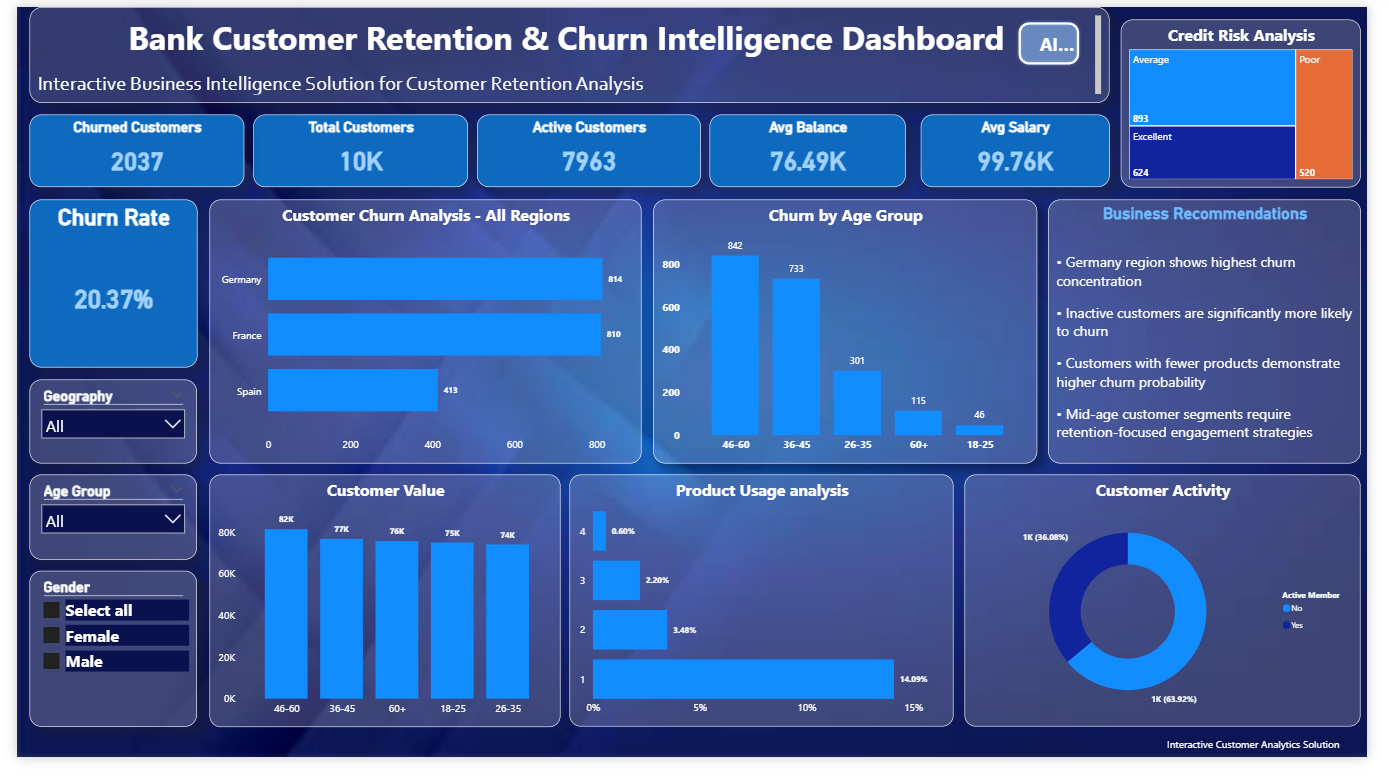

The page's visual inventory and layout, read from the dashboard file:
{"tool":"powerbi","page":{"name":"Executive Dashboard","canvas":[1800,1000],"ordinal":0},"visuals":[{"type":"card","title":"Total Customers","fields":{"Values":["Customer_Info.Total Customers"]},"box":[315,143.3,286.7,96.7],"z":0},{"type":"card","title":"Churned Customers","fields":{"Values":["Customer_Info.Churned Customers"]},"box":[16.7,143.3,286.7,96.7],"z":1000},{"type":"card","title":"Active Customers","fields":{"Values":["Customer_Info.Active Customers"]},"box":[613.3,143.3,298.3,96.7],"z":2000},{"type":"card","title":"Churn Rate","fields":{"Values":["Customer_Info.Churn Rate"]},"box":[16,256,224,224],"z":3000},{"type":"card","title":"Avg Salary","fields":{"Values":["Account_Info.Average Salary"]},"box":[1205,143.3,251.7,96.7],"z":4000},{"type":"card","title":"Avg Balance","fields":{"Values":["Customer_Info.Average Balance"]},"box":[923.3,143.3,261.7,96.7],"z":5000},{"type":"slicer","fields":{"Values":["Customer_Info.Geography"]},"box":[16.7,496.7,223.3,111.7],"z":6000},{"type":"slicer","fields":{"Values":["Customer_Info.Age Group"]},"box":[16.7,623.3,223.3,113.3],"z":7000},{"type":"textbox","box":[16,0,1440,128],"z":8000},{"type":"clusteredColumnChart","title":"Churn by Age Group","fields":{"Category":["Customer_Info.Age Group"],"Y":["Customer_Info.Churned Customers"]},"box":[848,256,512,352],"z":9000},{"type":"donutChart","title":"Customer Activity","fields":{"Category":["Account_Info.IsActiveMember"],"Y":["Customer_Info.Churned Customers"]},"box":[1264,624,528,336],"z":10000},{"type":"treemap","title":"Credit Risk Analysis","fields":{"Group":["Customer_Info.Credit Category"],"Values":["CountNonNull(Account_Info.CustomerId)"]},"box":[1472,16,320,224],"z":11000},{"type":"barChart","fields":{"Category":["Customer_Info.Geography"],"Y":["Customer_Info.Churned Customers"]},"box":[256,256,576,352],"z":12000},{"type":"clusteredColumnChart","title":"Customer Value","fields":{"Category":["Customer_Info.Age Group"],"Y":["Customer_Info.Average Balance"]},"box":[256.7,623.3,468.3,336.7],"z":13000},{"type":"clusteredBarChart","title":"Product Usage analysis","fields":{"Category":["Account_Info.NumOfProducts"],"Y":["Customer_Info.Churn Rate"]},"box":[736,624,512,336],"z":14000},{"type":"textbox","title":"Business Recommendations","box":[1375,256.7,416.7,351.7],"z":15000},{"type":"slicer","fields":{"Values":["Customer_Info.Gender"]},"box":[16.7,751.7,223.3,208.3],"z":16000},{"type":"textbox","box":[1528,968,272,32],"z":17000},{"type":"actionButton","box":[1331,16.4,88.3,63.8],"z":18000}]}

Visuals, with their boxes in screenshot pixels (x1, y1, x2, y2), scaled from the page's 1800x1000 canvas onto the 1389x780 screenshot:
"Total Customers" card: (left=243, top=112, right=464, bottom=187)
"Churned Customers" card: (left=13, top=112, right=234, bottom=187)
"Active Customers" card: (left=473, top=112, right=703, bottom=187)
"Churn Rate" card: (left=12, top=200, right=185, bottom=374)
"Avg Salary" card: (left=930, top=112, right=1124, bottom=187)
"Avg Balance" card: (left=712, top=112, right=914, bottom=187)
slicer - Customer_Info.Geography: (left=13, top=387, right=185, bottom=475)
slicer - Customer_Info.Age Group: (left=13, top=486, right=185, bottom=575)
textbox: (left=12, top=0, right=1124, bottom=100)
"Churn by Age Group" clusteredColumnChart: (left=654, top=200, right=1049, bottom=474)
"Customer Activity" donutChart: (left=975, top=487, right=1383, bottom=749)
"Credit Risk Analysis" treemap: (left=1136, top=12, right=1383, bottom=187)
barChart - Customer_Info.Geography x Customer_Info.Churned Customers: (left=198, top=200, right=642, bottom=474)
"Customer Value" clusteredColumnChart: (left=198, top=486, right=559, bottom=749)
"Product Usage analysis" clusteredBarChart: (left=568, top=487, right=963, bottom=749)
"Business Recommendations" textbox: (left=1061, top=200, right=1383, bottom=475)
slicer - Customer_Info.Gender: (left=13, top=586, right=185, bottom=749)
textbox: (left=1179, top=755, right=1388, bottom=779)
actionButton: (left=1027, top=13, right=1095, bottom=63)
